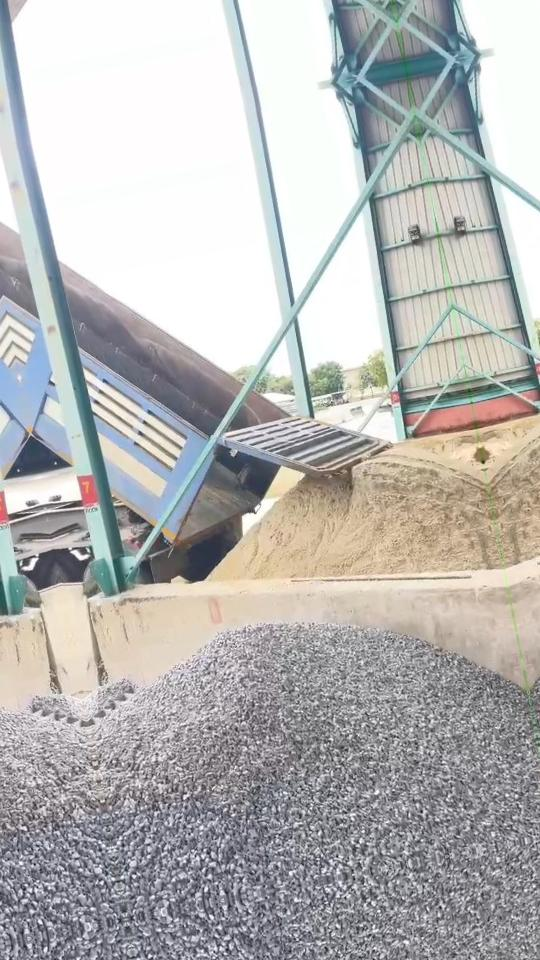gravel: (88, 624, 540, 917), (83, 679, 134, 726)
sand: (209, 446, 500, 580), (395, 430, 482, 467), (267, 467, 302, 497)
